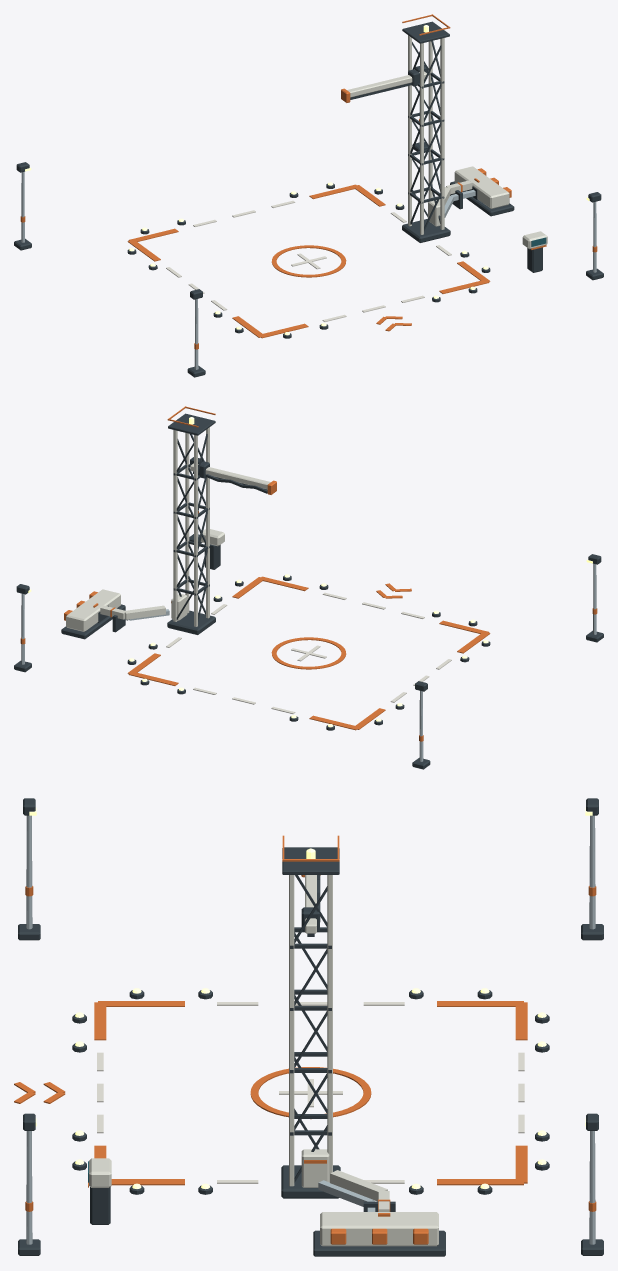
Rendered from launchpad-v2a.glb.
The picture shows the model from 3 angles, top to bottom: view 1: azimuth 30°, elevation 25°; view 2: azimuth 150°, elevation 25°; view 3: azimuth 270°, elevation 25°; orthographic projection. The views are drawn at different scales.
Visible parts, largest first — view 1: launchpad-v2a_dark, launchpad-v2a_ivory, launchpad-v2a_orange, launchpad-v2a_metal, Umbilical, launchpad-v2a_paint; view 2: launchpad-v2a_dark, launchpad-v2a_ivory, launchpad-v2a_orange, Umbilical, launchpad-v2a_paint, launchpad-v2a_metal; view 3: launchpad-v2a_dark, launchpad-v2a_ivory, launchpad-v2a_orange, launchpad-v2a_metal, launchpad-v2a_paint, launchpad-v2a_light, Umbilical.
Part boxes in pixels (box(x1,y1,x2,y2)): launchpad-v2a_dark: box(14, 21, 603, 377); launchpad-v2a_ivory: box(408, 35, 547, 249); launchpad-v2a_orange: box(20, 14, 597, 349); launchpad-v2a_metal: box(21, 87, 596, 369); Umbilical: box(341, 69, 427, 102); launchpad-v2a_paint: box(166, 200, 451, 321); launchpad-v2a_dark: box(14, 413, 603, 769); launchpad-v2a_ivory: box(66, 427, 224, 631); launchpad-v2a_orange: box(20, 406, 597, 741); Umbilical: box(190, 461, 276, 494); launchpad-v2a_paint: box(166, 592, 451, 713); launchpad-v2a_metal: box(21, 479, 596, 761); launchpad-v2a_dark: box(18, 798, 603, 1256); launchpad-v2a_ivory: box(89, 875, 438, 1246); launchpad-v2a_orange: box(14, 835, 596, 1244); launchpad-v2a_metal: box(26, 815, 595, 1244); launchpad-v2a_paint: box(97, 1002, 524, 1183); launchpad-v2a_light: box(29, 807, 592, 1189); Umbilical: box(301, 875, 320, 936).
Size of the model in its own units: 16.96 by 8.17 by 12.89.
